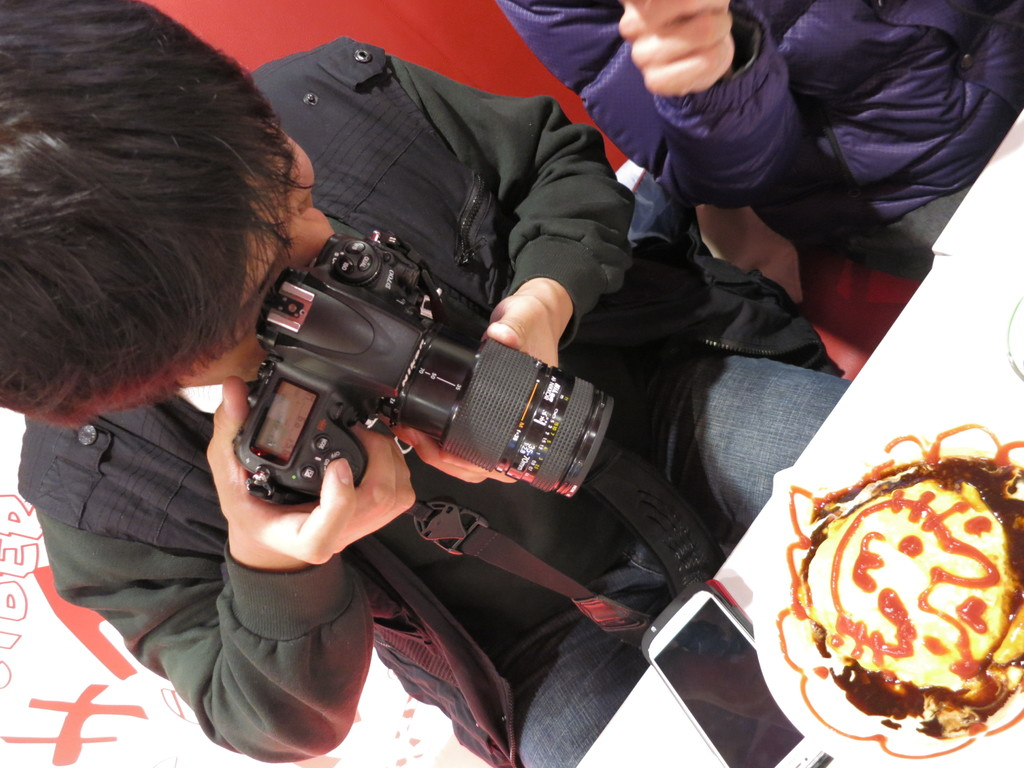Human_hand: (205, 376, 415, 568), (377, 294, 559, 484), (618, 0, 737, 99)
